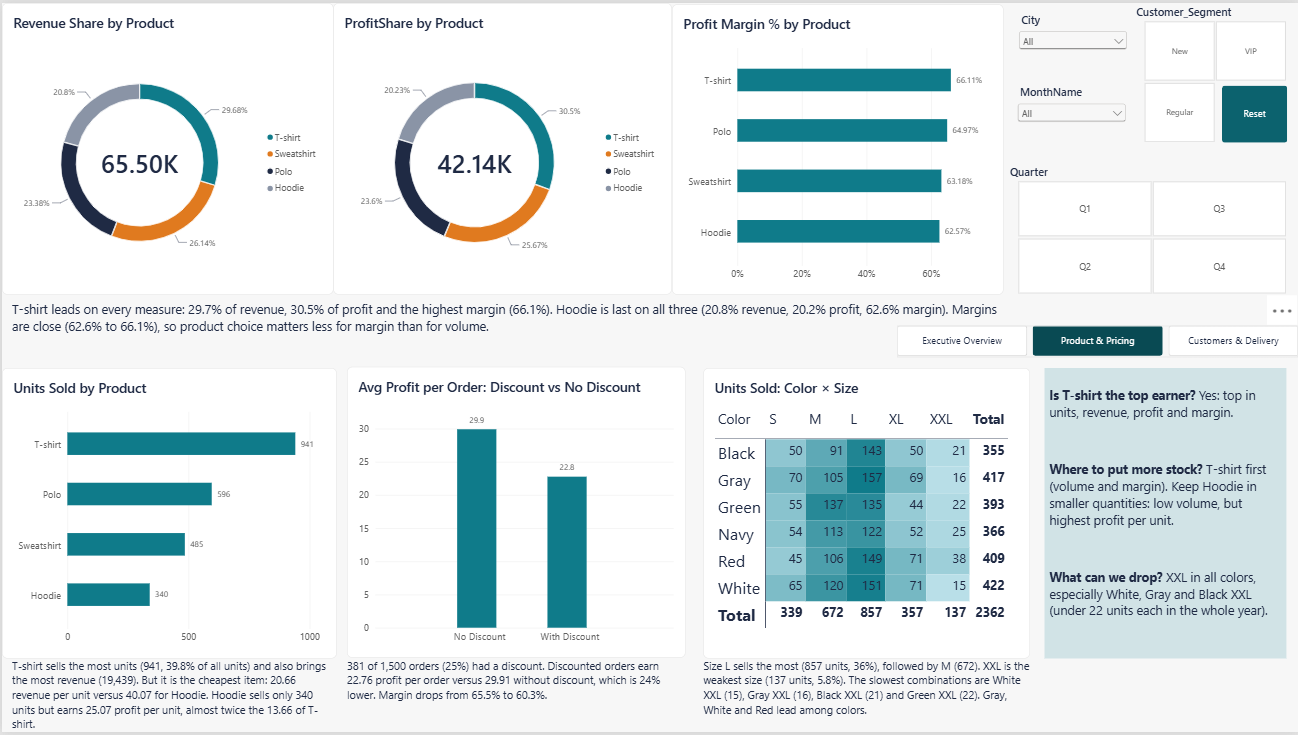

The page's visual inventory and layout, read from the dashboard file:
{"tool":"powerbi","page":{"name":"Product & Pricing","canvas":[1920,1080],"ordinal":1},"visuals":[{"type":"donutChart","title":"Revenue Share by Product","fields":{"Category":["Dim_Products.Category"],"Y":["_Measures.Total Revenue"]},"box":[0,0,491.3,432],"z":0},{"type":"donutChart","title":"ProfitShare by Product","fields":{"Category":["Dim_Products.Category"],"Y":["_Measures.Total Profit"]},"box":[491.4,0,501.8,432],"z":1000},{"type":"clusteredBarChart","title":"Profit Margin % by Product","fields":{"Category":["Dim_Products.Category"],"Y":["_Measures.Profit Margin %"]},"box":[992.9,1.4,491.3,430.7],"z":2000},{"type":"pivotTable","title":"Units Sold: Color × Size","fields":{"Columns":["Fact_Sales.Size"],"Rows":["Fact_Sales.Color"],"Values":["_Measures.Units Sold"]},"box":[1038,540,484.3,430],"z":3000},{"type":"clusteredColumnChart","title":"Avg Profit per Order: Discount vs No Discount","fields":{"Category":["Fact_Sales.Has_Discount"],"Y":["_Measures.Avg Profit per Order"]},"box":[511.4,538.6,501.4,431.4],"z":4000},{"type":"clusteredBarChart","title":"Units Sold by Product","fields":{"Category":["Dim_Products.Category"],"Y":["_Measures.Units Sold"]},"box":[0,540,495.7,430],"z":5000},{"type":"textbox","box":[14.3,441.4,1470,72.9],"z":6000},{"type":"textbox","box":[14.3,970,477.1,110],"z":7000},{"type":"textbox","box":[1038.6,970,484.3,110],"z":8000},{"type":"textbox","box":[511.4,970,501.4,110],"z":9000},{"type":"textbox","box":[1544.3,540,358.6,430],"z":10000},{"type":"slicer","fields":{"Values":["Dim_Date.Quarter"]},"box":[1484.3,238.6,435.7,192.9],"z":11000},{"type":"slicer","fields":{"Values":["Dim_Customers.City"]},"box":[1501.4,12.9,169.9,106.7],"z":12000},{"type":"slicer","fields":{"Values":["Dim_Date.MonthName"]},"box":[1500,120,169.9,118.5],"z":13000},{"type":"slicer","fields":{"Values":["Dim_Customers.Customer_Segment"]},"box":[1671.4,1.4,248.6,205.7],"z":14000},{"type":"actionButton","box":[1806.7,121.7,96.7,85],"z":15000},{"type":"pageNavigator","box":[1325,478.3,595,45],"z":16000}]}

Visuals, with their boxes in screenshot pixels (x1, y1, x2, y2), scaled from the page's 1920x1080 canvas onto the 1298x735 screenshot:
"Revenue Share by Product" donutChart: pyautogui.locateOnScreen(0, 0, 332, 294)
"ProfitShare by Product" donutChart: pyautogui.locateOnScreen(332, 0, 671, 294)
"Profit Margin % by Product" clusteredBarChart: pyautogui.locateOnScreen(671, 1, 1003, 294)
"Units Sold: Color × Size" pivotTable: pyautogui.locateOnScreen(702, 368, 1029, 660)
"Avg Profit per Order: Discount vs No Discount" clusteredColumnChart: pyautogui.locateOnScreen(346, 367, 685, 660)
"Units Sold by Product" clusteredBarChart: pyautogui.locateOnScreen(0, 368, 335, 660)
textbox: pyautogui.locateOnScreen(10, 300, 1003, 350)
textbox: pyautogui.locateOnScreen(10, 660, 332, 734)
textbox: pyautogui.locateOnScreen(702, 660, 1030, 734)
textbox: pyautogui.locateOnScreen(346, 660, 685, 734)
textbox: pyautogui.locateOnScreen(1044, 368, 1286, 660)
slicer - Dim_Date.Quarter: pyautogui.locateOnScreen(1003, 162, 1297, 294)
slicer - Dim_Customers.City: pyautogui.locateOnScreen(1015, 9, 1130, 81)
slicer - Dim_Date.MonthName: pyautogui.locateOnScreen(1014, 82, 1129, 162)
slicer - Dim_Customers.Customer_Segment: pyautogui.locateOnScreen(1130, 1, 1297, 141)
actionButton: pyautogui.locateOnScreen(1221, 83, 1287, 141)
pageNavigator: pyautogui.locateOnScreen(896, 326, 1297, 356)
